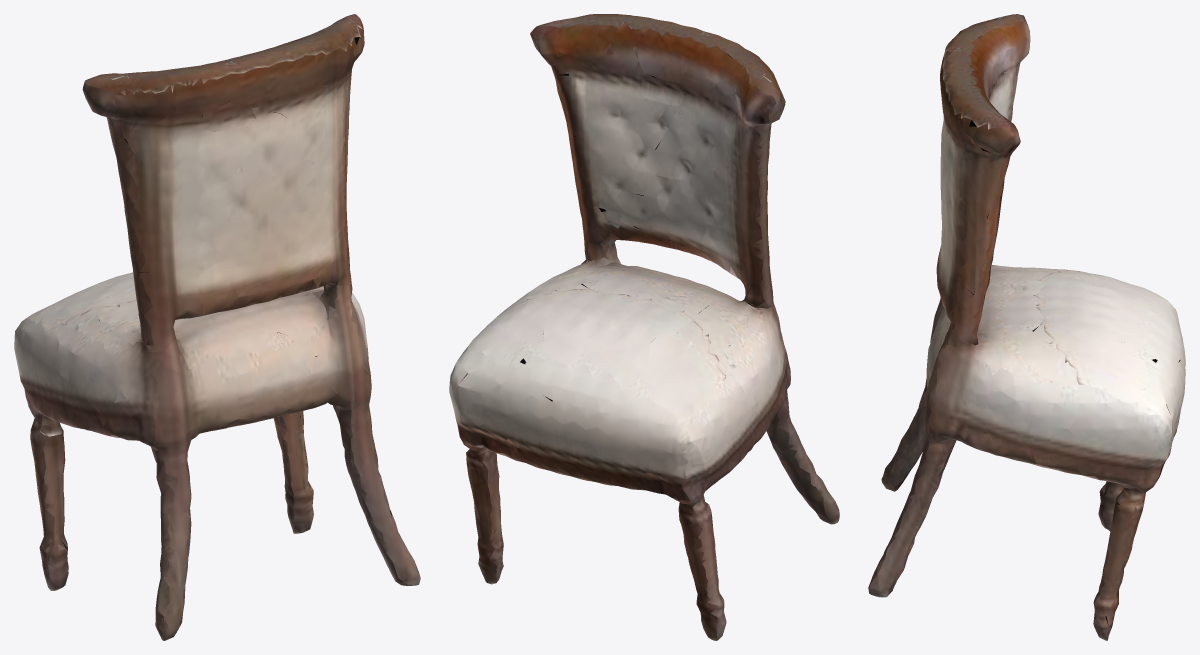
3 views of the same model, side by side, from view 1: azimuth 30°, elevation 25°; view 2: azimuth 150°, elevation 25°; view 3: azimuth 270°, elevation 25° (orthographic). The views are drawn at different scales.
Parts seen in each view (by area): view 1: world; view 2: world; view 3: world.
Part boxes in pixels (x1,y1,x2,y2): world: (14, 14, 420, 640); world: (449, 14, 839, 640); world: (868, 14, 1185, 640).
Size of the model in its own units: 0.4978 by 0.9511 by 0.5227.
1 material, 1 textured.
